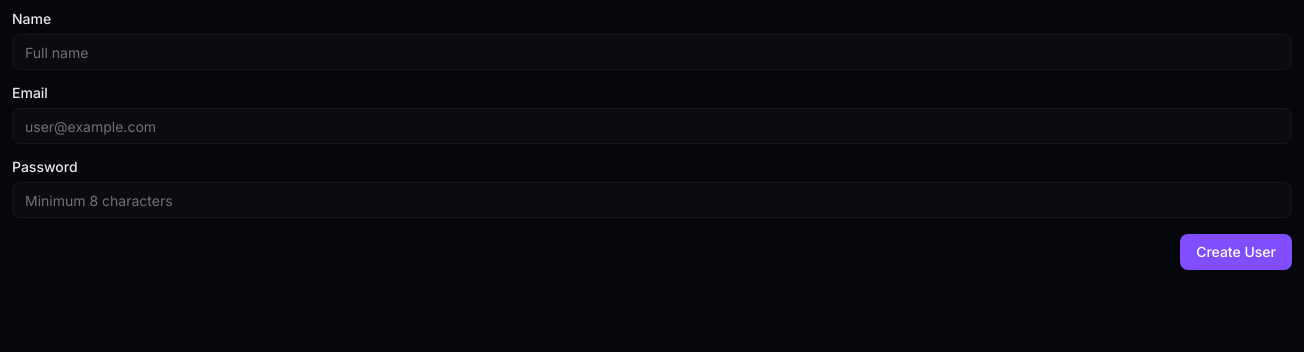
Scenario: UserForm — create mode › should display server error message on 409 conflict
In the field labelled "Name": (652, 52) [12, 34, 1292, 70], type "John Doe"
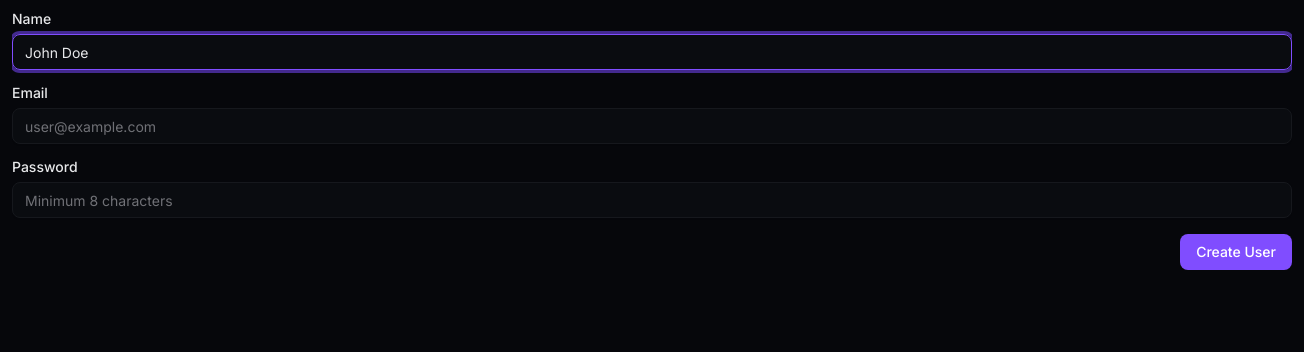
In the field labelled "Email": (652, 126) [12, 108, 1292, 144], type "john@example.com"
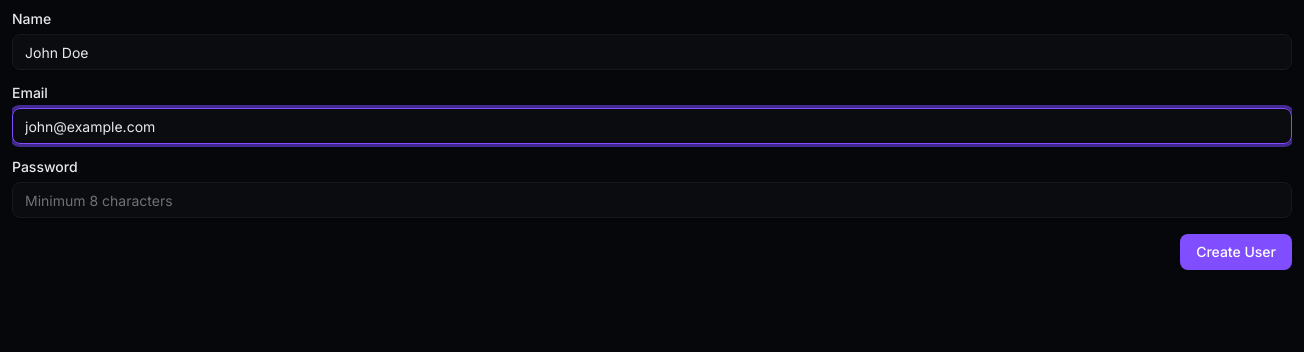
In the password field labelled "Password": (652, 200) [12, 182, 1292, 218], type "password123"
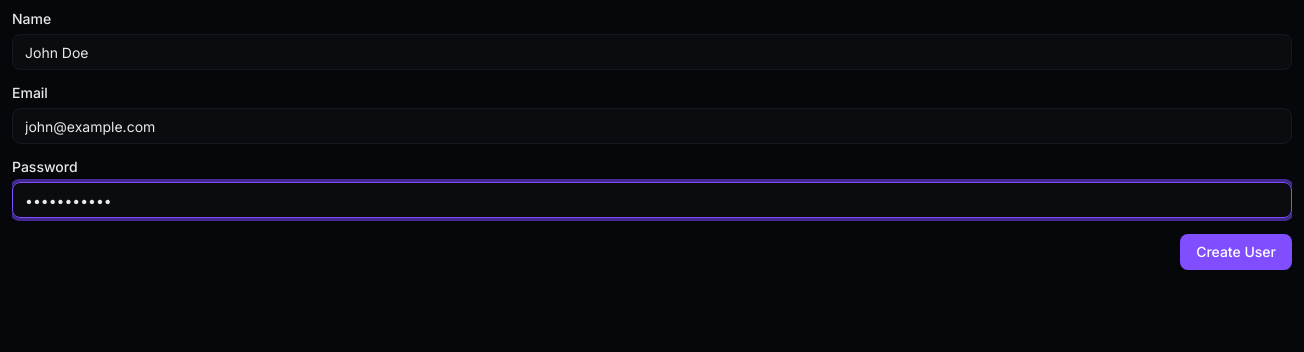
Click the button "Create User": (1236, 252) [1180, 234, 1292, 270]
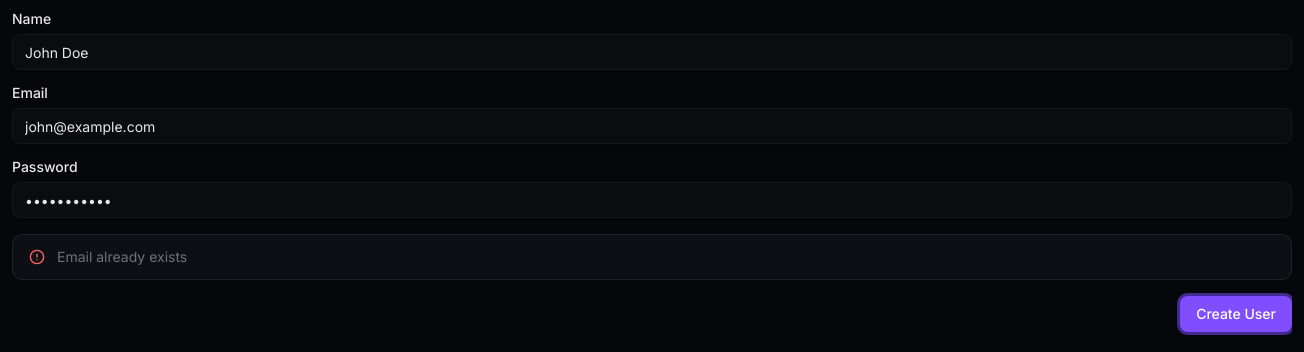
expect the text "Email already exists" is shown: met, box [57, 248, 187, 265]
